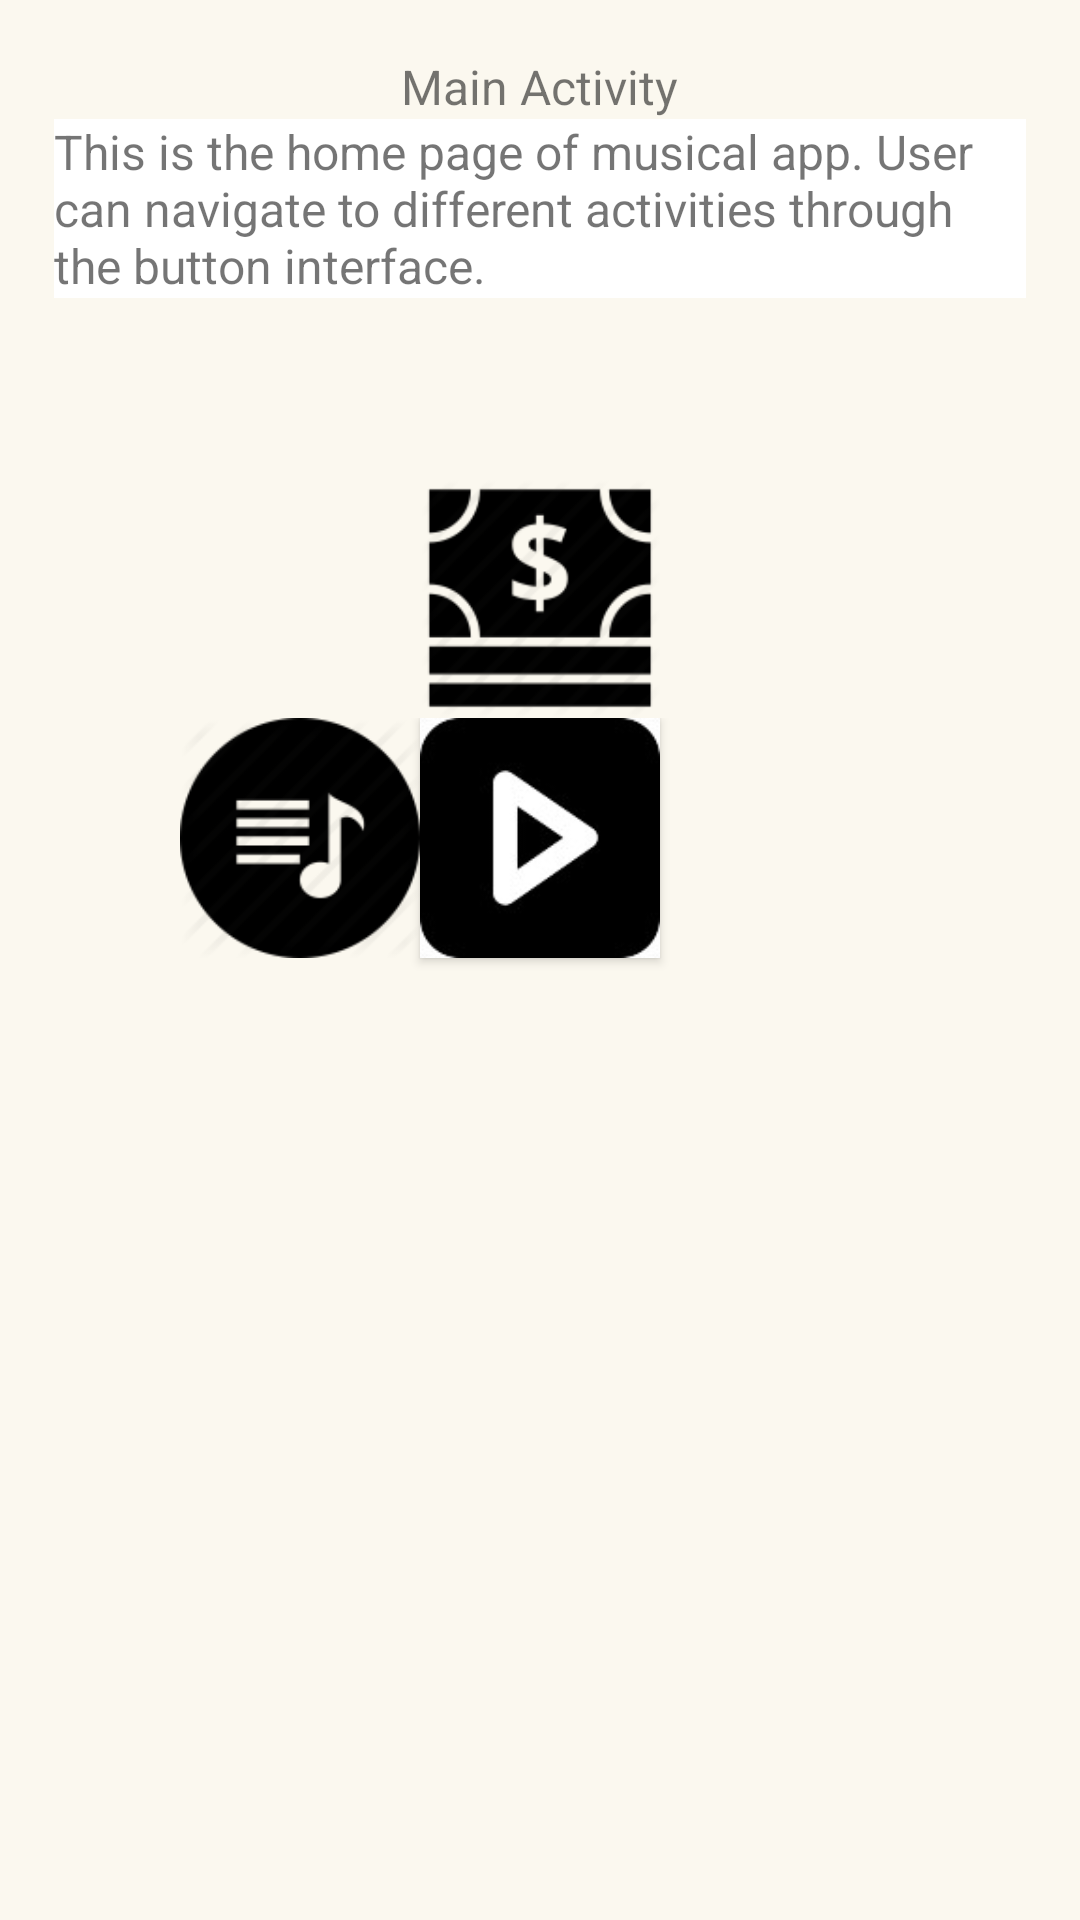

Icon bounding boxes for this 1080 × 1920 phone screenshot, format rect(x1, y1, x2, y2):
pay: rect(428, 488, 652, 708)
playlist: rect(180, 718, 420, 958)
